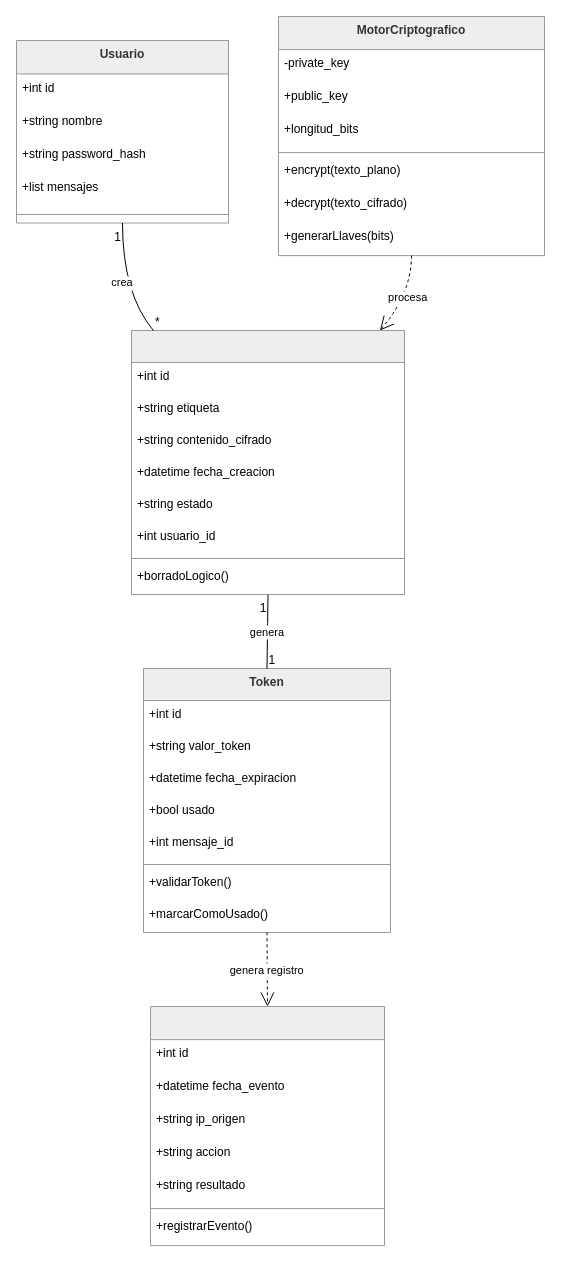
Some shapes in this 561 by 1262 pixel diagram are drawn without their labels. The box of each missing label's shape, as (x1, y1, x2, y2) in pixels:
Auditoria: (150, 1006, 384, 1246)
RegistroMensaje: (130, 330, 404, 594)
